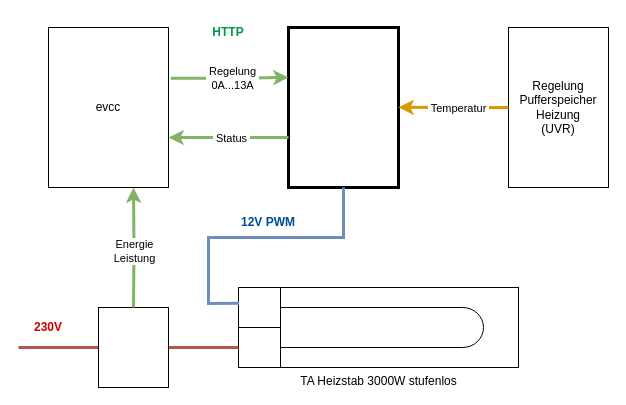
Image size: 626x405. Some labels were removed from this diagram. The box of each missing label's shape, as (x1, y1, x2, y2) in pixels:
ATON CTRL (Raspberry): (286, 26, 400, 188)
Shelly Pro 1PM: (98, 306, 168, 388)
